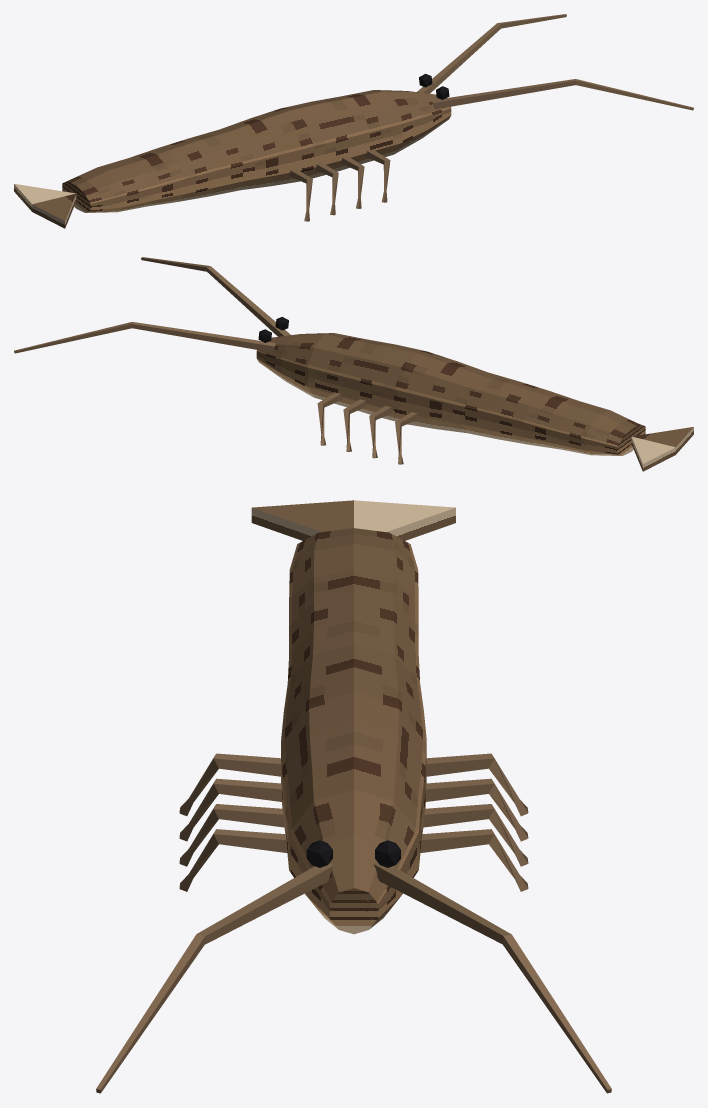
Rendered from slipper_lobster.glb.
The picture shows the model from 3 angles, top to bottom: view 1: azimuth 30°, elevation 25°; view 2: azimuth 150°, elevation 25°; view 3: azimuth 270°, elevation 25°; orthographic projection. The views are drawn at different scales.
Visible parts, largest first — view 1: fish_slipper_lobster; view 2: fish_slipper_lobster; view 3: fish_slipper_lobster.
Boxes of the visible parts, x1,y1,x2,y2 form: fish_slipper_lobster: [14, 14, 693, 228]; fish_slipper_lobster: [14, 257, 693, 471]; fish_slipper_lobster: [96, 500, 611, 1093].
Size of the model in its own units: 1.62 by 0.1934 by 0.6055.
Materials: 3 (1 with a texture image).
